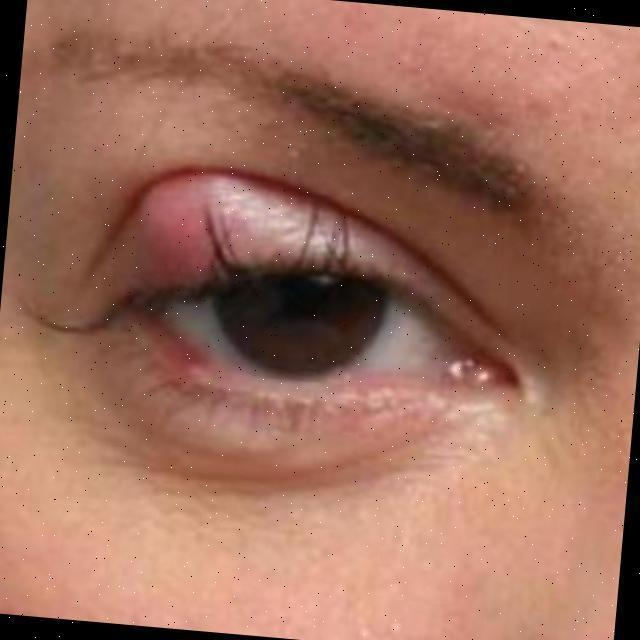Stye: (100, 118, 322, 367)
